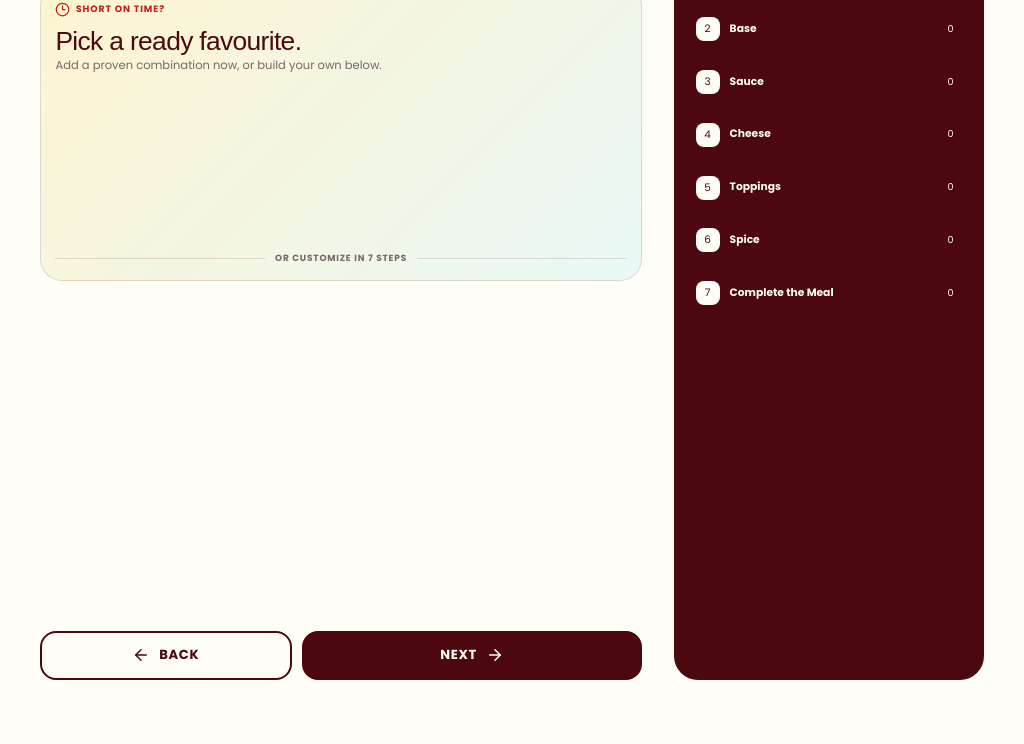
Test: Stage 3 customer commerce › starts the pizza builder at step one and validates the required size
(page scrolled)
Expected: the text "OR CUSTOMIZE IN 7 STEPS" is shown, [275,252,407,266]
Click the button "NEXT": (472, 655) [302,631,642,680]
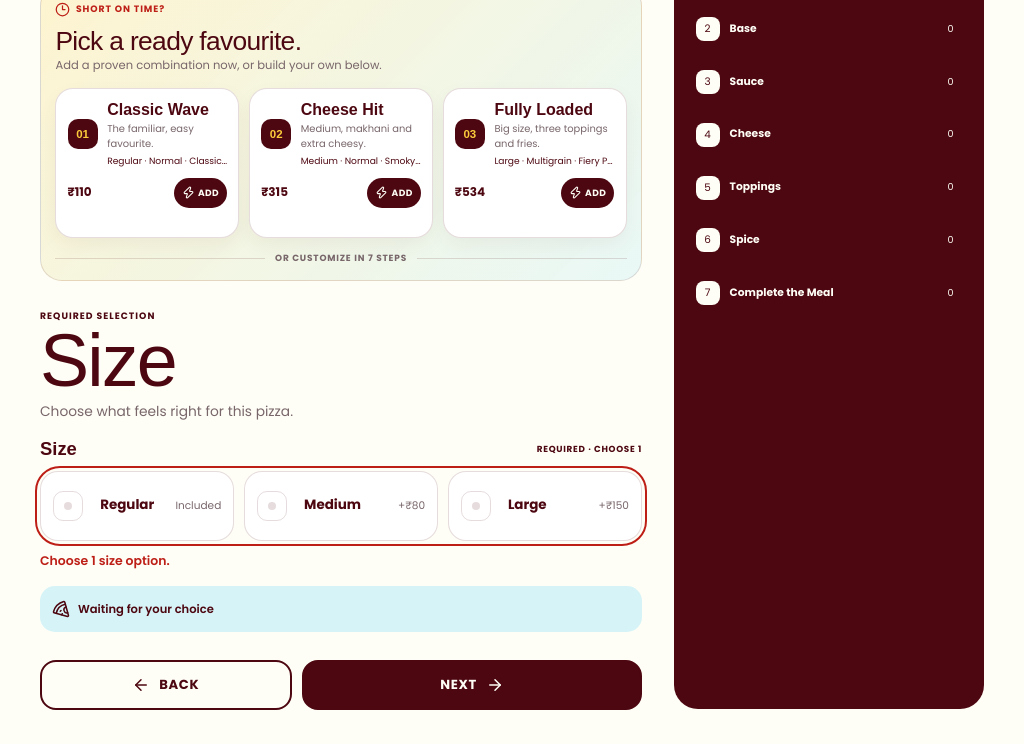
Now the message reads "Choose 1 size option.", box [40,552,170,569]
